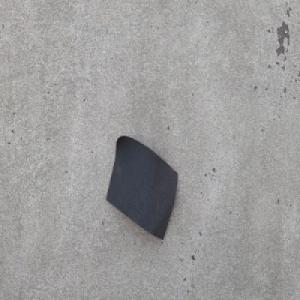PaintChip: (105, 134, 178, 241)
